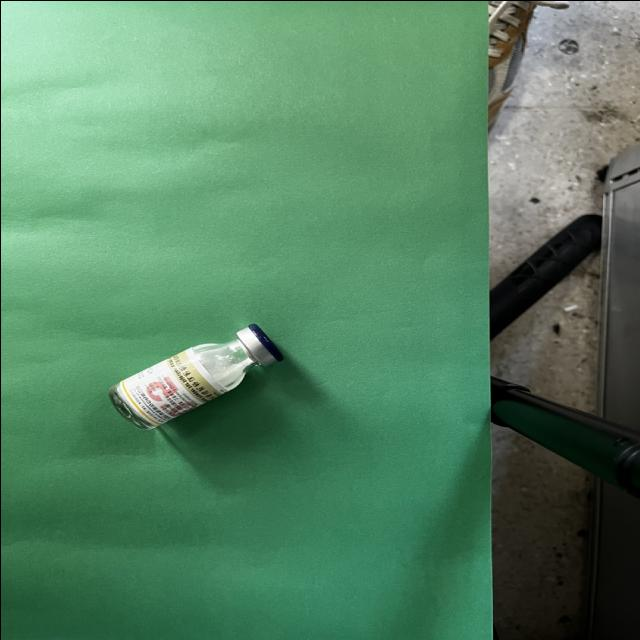Vials: (107, 323, 283, 430)
